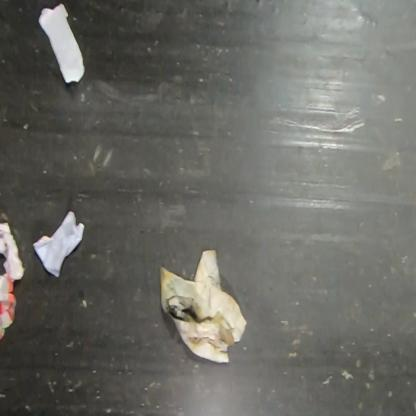soft_plastic: (38, 1, 86, 84)
